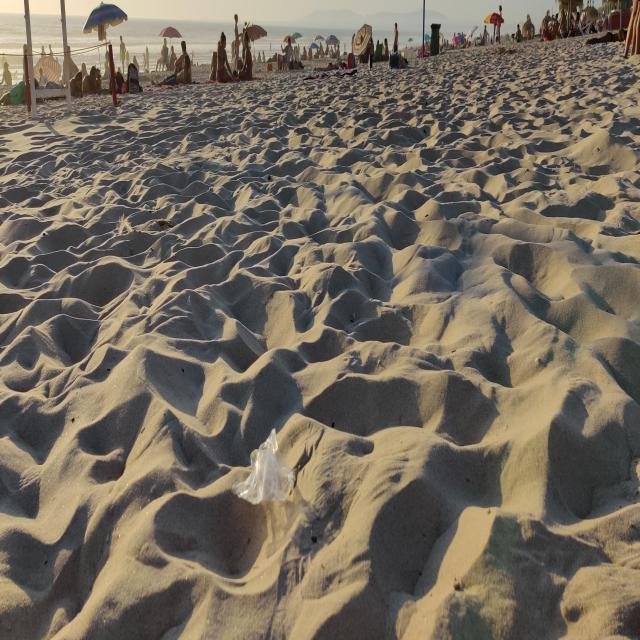litter: (232, 429, 295, 505)
